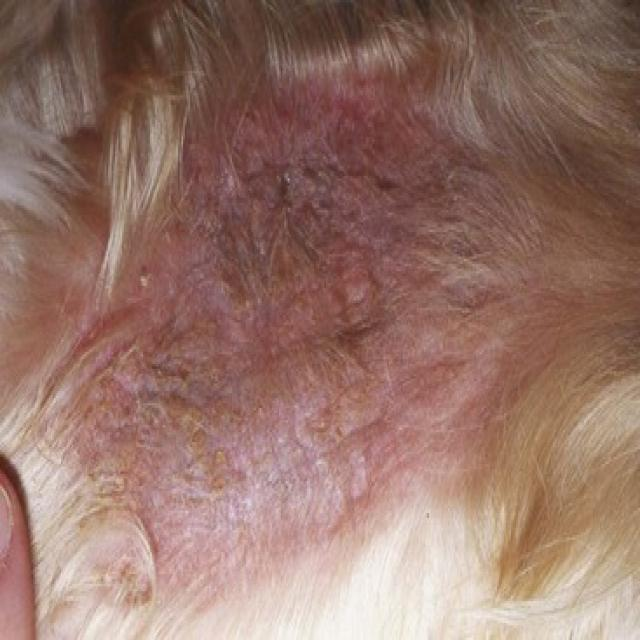allergic dermatitis: (71, 72, 470, 524)
